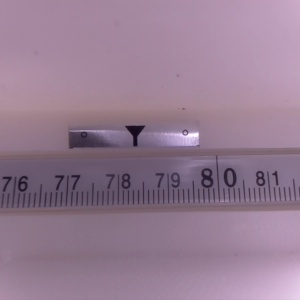0: (222, 168, 237, 188)
1: (272, 170, 279, 186)
6: (17, 175, 28, 192)
7: (0, 175, 11, 192), (70, 174, 80, 191), (54, 175, 64, 191), (104, 174, 114, 189), (154, 173, 164, 188)
8: (200, 168, 213, 188), (254, 170, 265, 186), (121, 173, 130, 189)
9: (170, 172, 180, 188)
finger: (123, 125, 146, 148)
